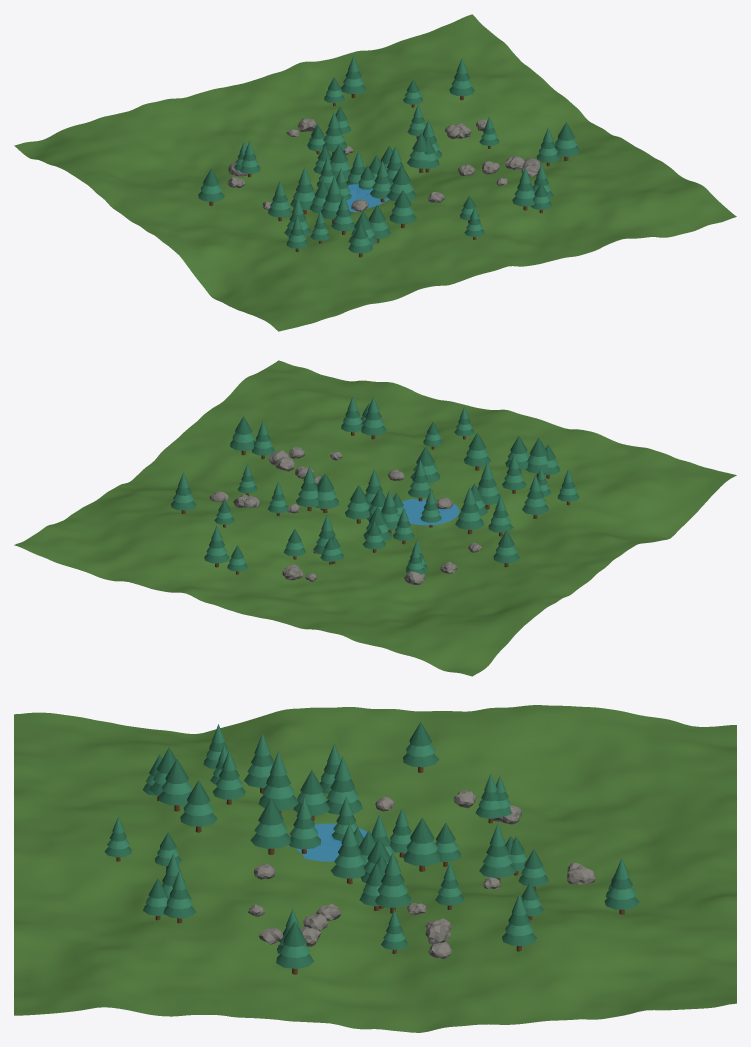
File: Preset-forest.glb
The picture shows the model from 3 angles, top to bottom: view 1: azimuth 30°, elevation 25°; view 2: azimuth 150°, elevation 25°; view 3: azimuth 270°, elevation 25°; orthographic projection. The views are drawn at different scales.
Visible parts, largest first — view 1: ground-surface; view 2: ground-surface, pond-surface; view 3: ground-surface, pond-surface.
Part boxes in pixels (x1,y1,x2,y2): ground-surface: [14, 14, 736, 331]; ground-surface: [14, 360, 736, 676]; pond-surface: [402, 498, 459, 525]; ground-surface: [14, 705, 736, 1032]; pond-surface: [296, 823, 367, 861].
Bounding box in the file's own units: 80 × 10.54 × 80.
